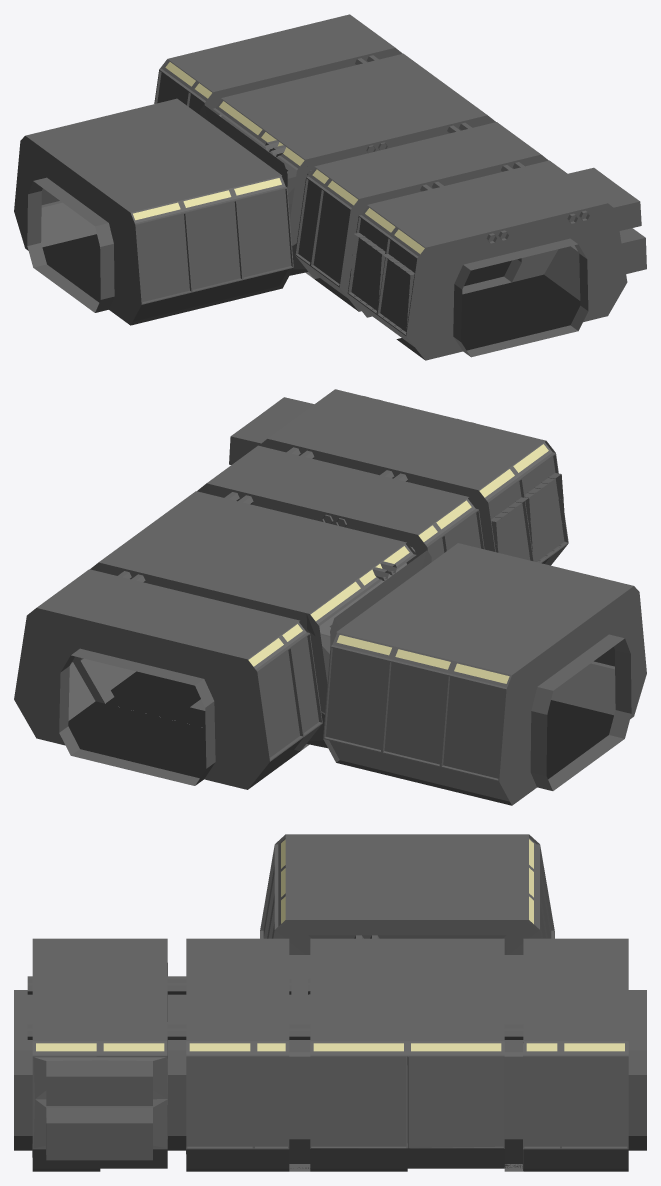
The model's file is MSH_Room1.fbx.
3 renders of one model, top to bottom at view 1: azimuth 30°, elevation 25°; view 2: azimuth 150°, elevation 25°; view 3: azimuth 270°, elevation 25°, orthographic. The views are drawn at different scales.
Parts seen in each view (by area): view 1: MSH_LV.1; view 2: MSH_LV.1; view 3: MSH_LV.1.
Part boxes in pixels (x1,y1,x2,y2): MSH_LV.1: (14, 14, 646, 360); MSH_LV.1: (14, 389, 646, 805); MSH_LV.1: (14, 834, 646, 1171).
Bounding box in the file's own units: 1543 × 392 × 1717.
